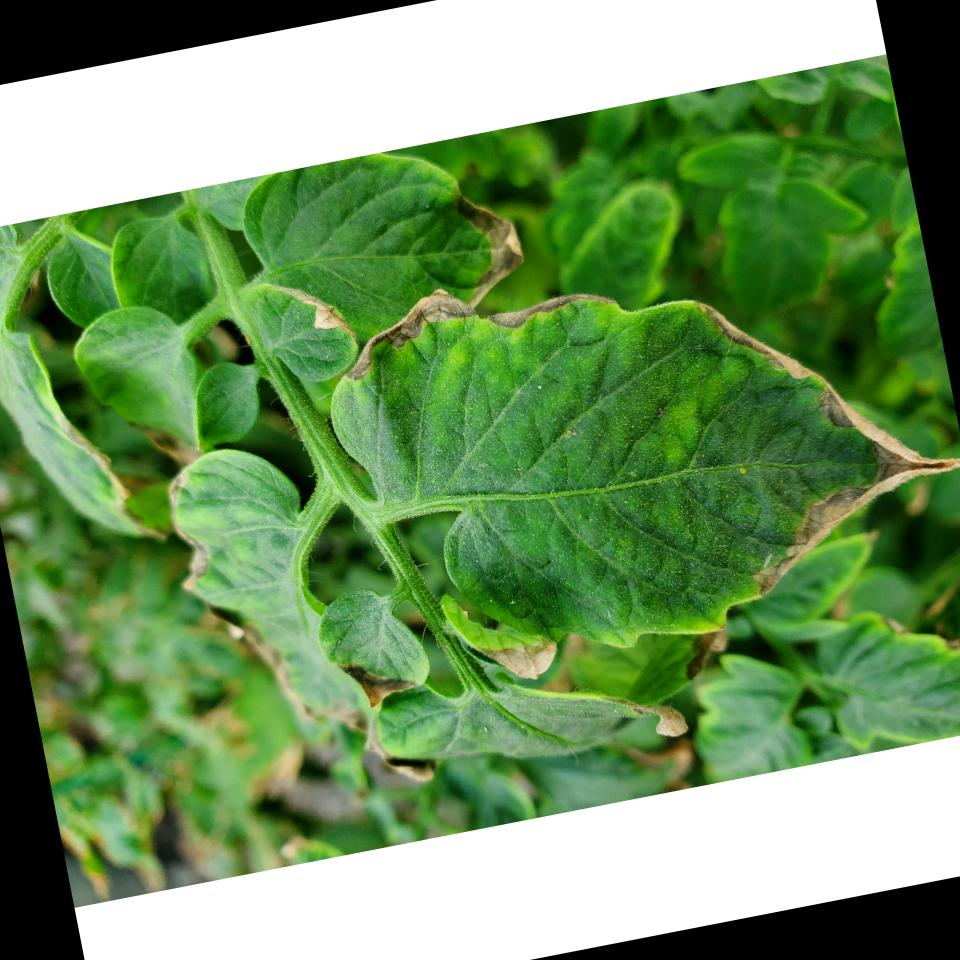tomato_bacterial_blight: (308, 181, 960, 699)
